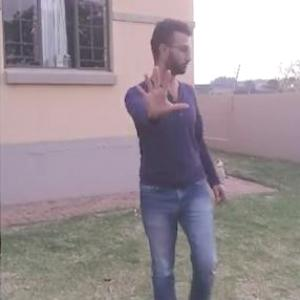follow_hand: (129, 63, 190, 121)
